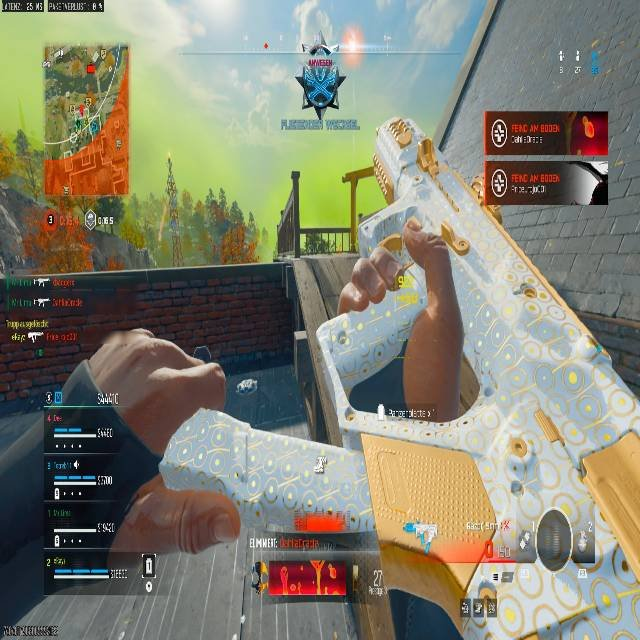head: (61, 327, 225, 460)
player: (294, 43, 347, 119)
